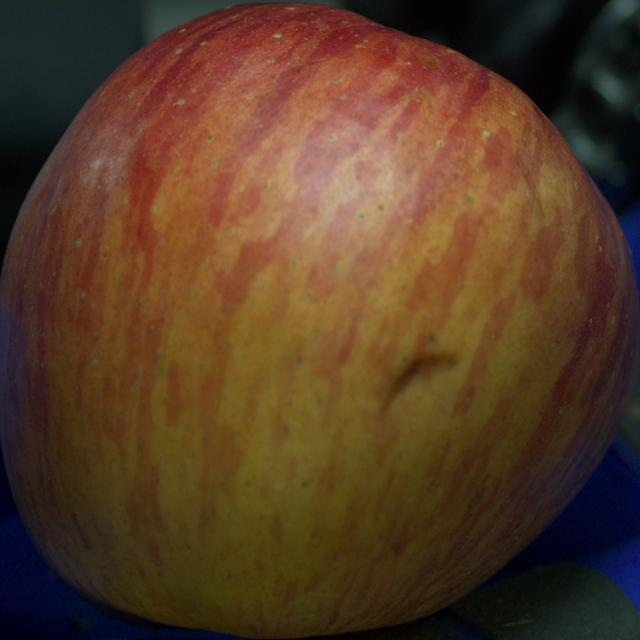apple: (0, 4, 639, 638)
bruise: (388, 353, 456, 401)
scratch: (514, 154, 544, 211)
